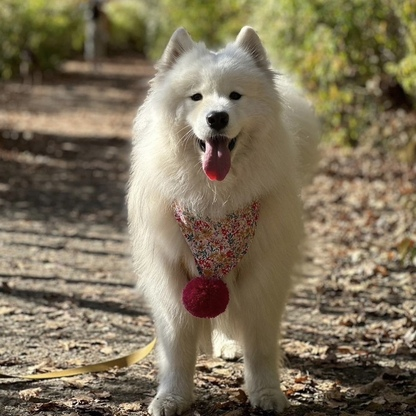samoyed: (117, 21, 325, 416)
